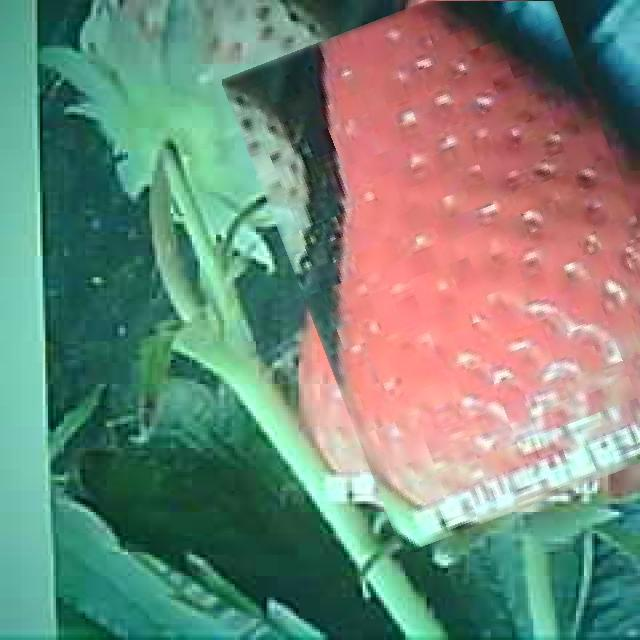strawberry: (262, 0, 640, 532)
